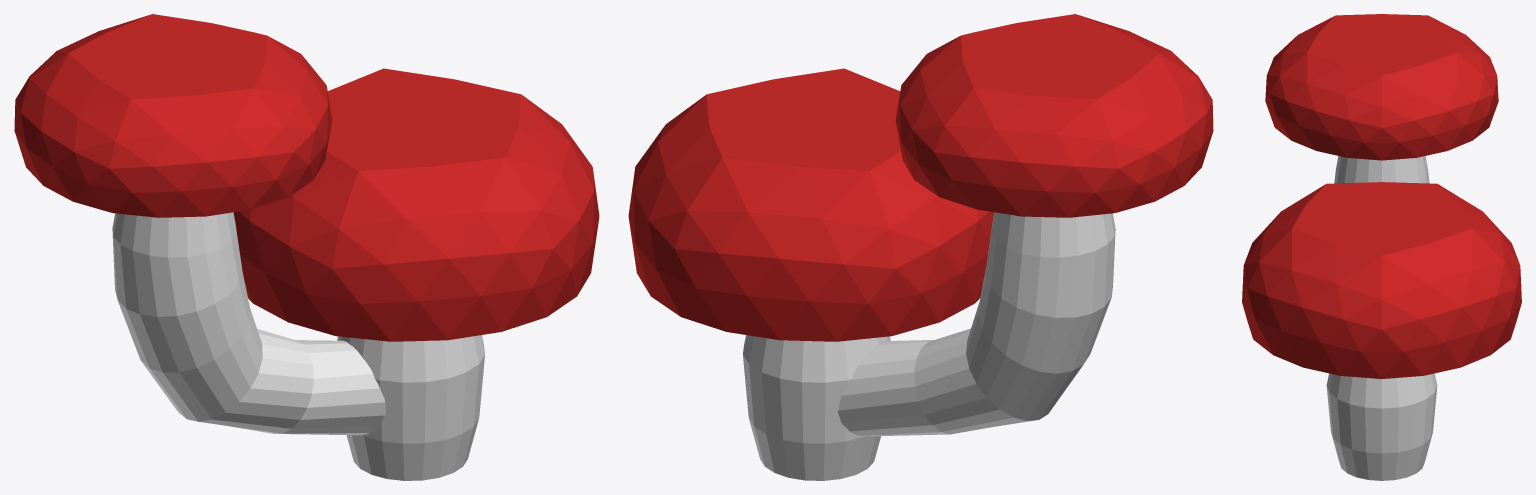
Rendered from mushroom.fbx.
The picture shows the model from 3 angles, left to right: view 1: azimuth 30°, elevation 25°; view 2: azimuth 150°, elevation 25°; view 3: azimuth 270°, elevation 25°; orthographic projection. The views are drawn at different scales.
Parts seen in each view (by area): view 1: Cylinder; view 2: Cylinder; view 3: Cylinder.
Boxes of the visible parts, <box> form: Cylinder: <box>14,14,599,480</box>; Cylinder: <box>628,14,1213,480</box>; Cylinder: <box>1242,14,1521,480</box>.
Bounding box in the file's own units: 684 × 555 × 419.
